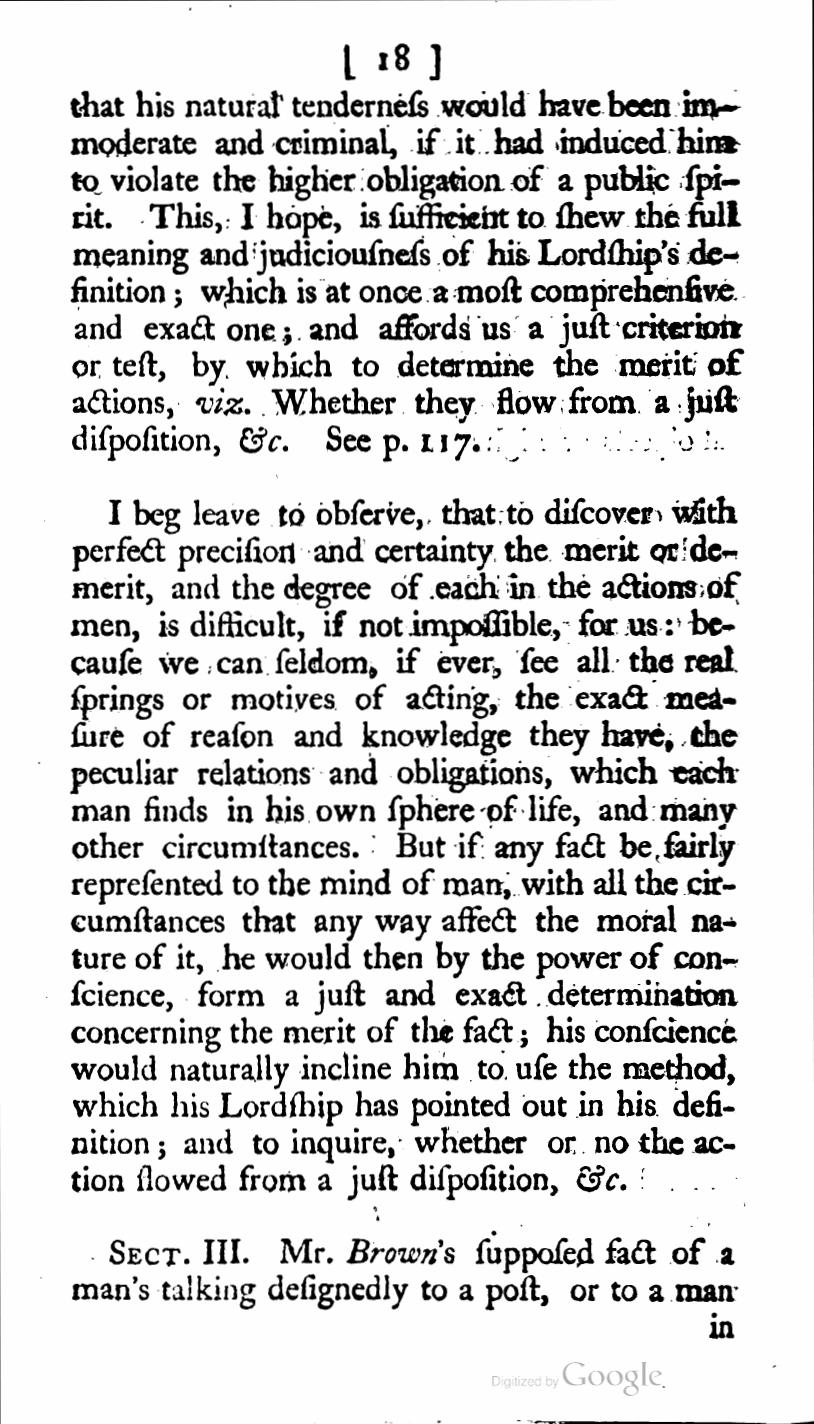bottom_p: (66, 84, 746, 460)
catchword: (706, 1308, 738, 1342)
full_p: (68, 492, 740, 1204)
page_num: (374, 38, 412, 78)
top_p: (66, 1236, 740, 1310)
